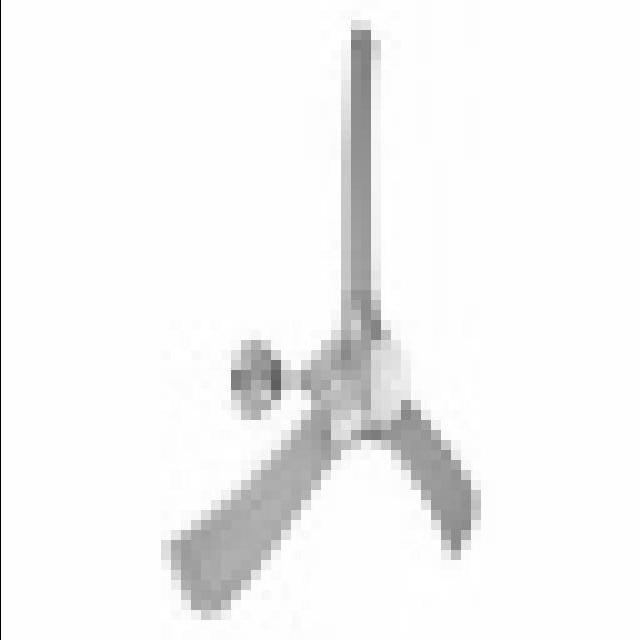fan: (158, 18, 481, 620)
